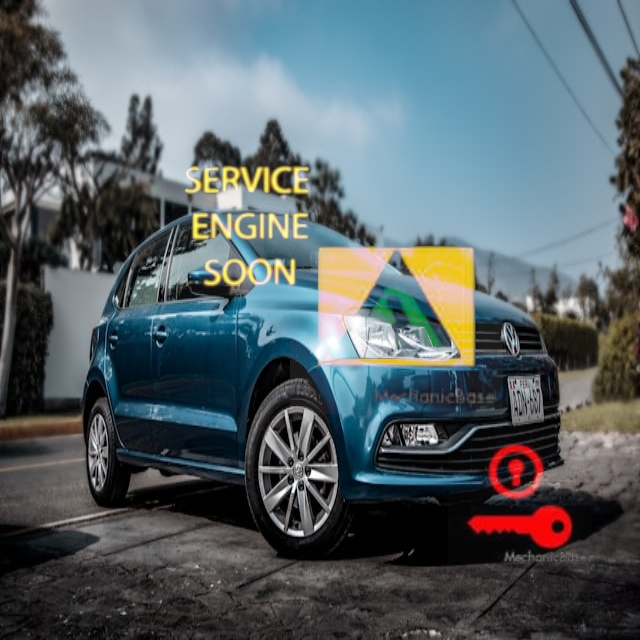symbol: (290, 201, 503, 414), (172, 154, 320, 302), (448, 425, 592, 569)
